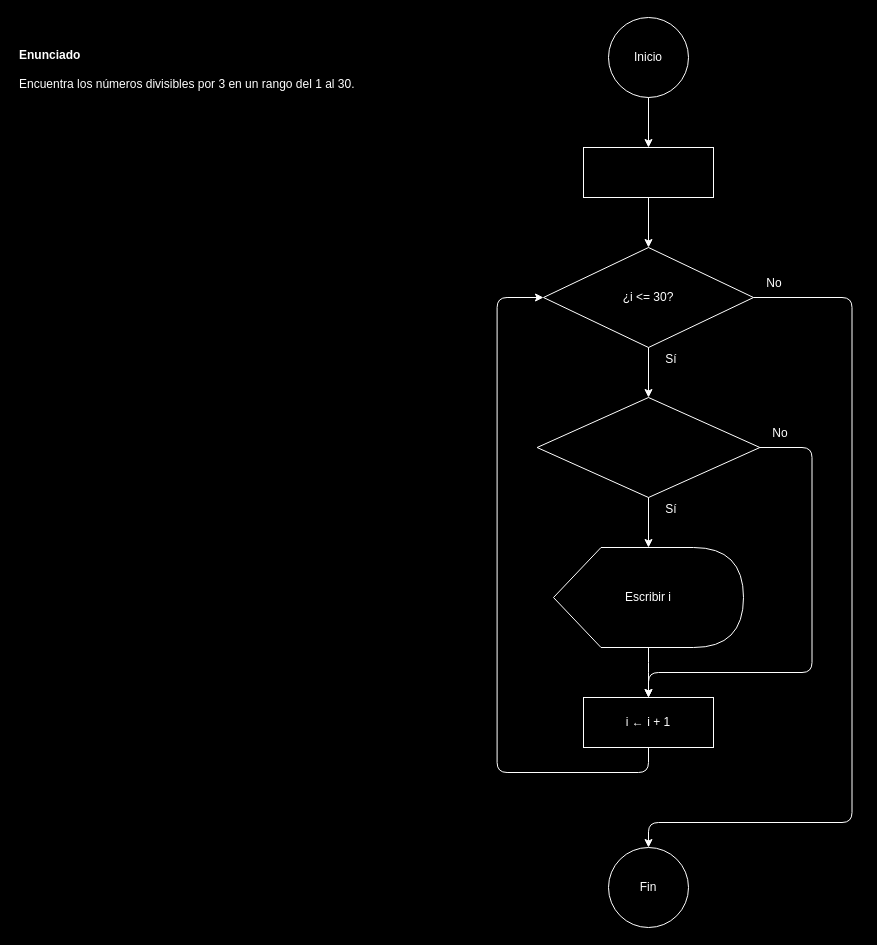
Image size: 877x945. Some labels were removed from this diagram. Here are the shapes that lost their labels. From the top down, the box of each, then its label:
(582, 146, 714, 198): i ← 1
(536, 396, 760, 498): ¿i MOD 3 = 0?
